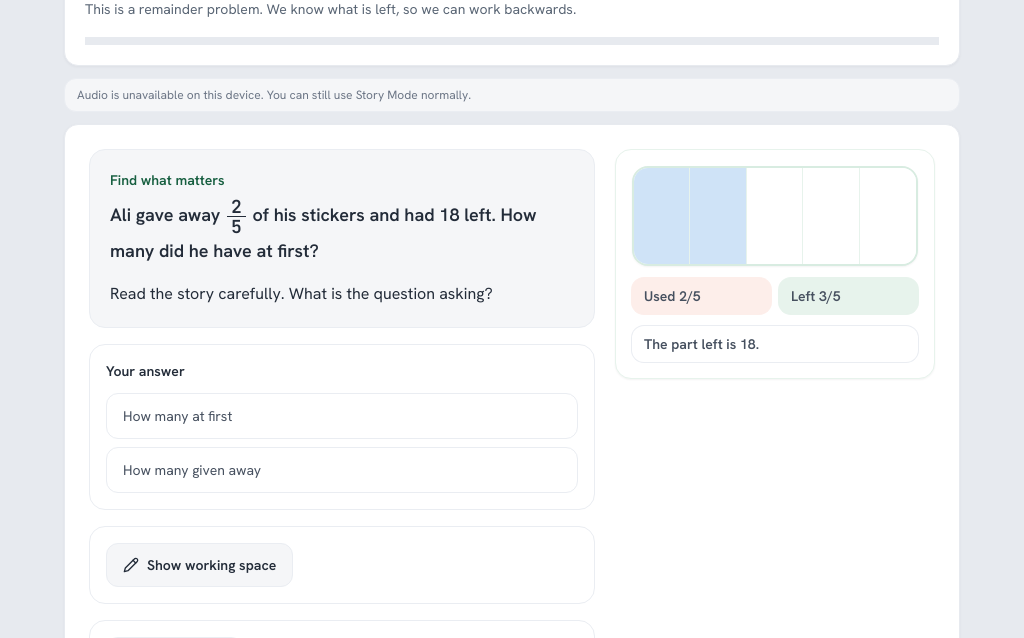
Scenario: FractionsStoryModeSession direct routes › shows story-specific retry guidance for a wrong answer
Step 1. Click the button "How many given away" → [192, 470], box [106, 447, 578, 493]
(page scrolled)
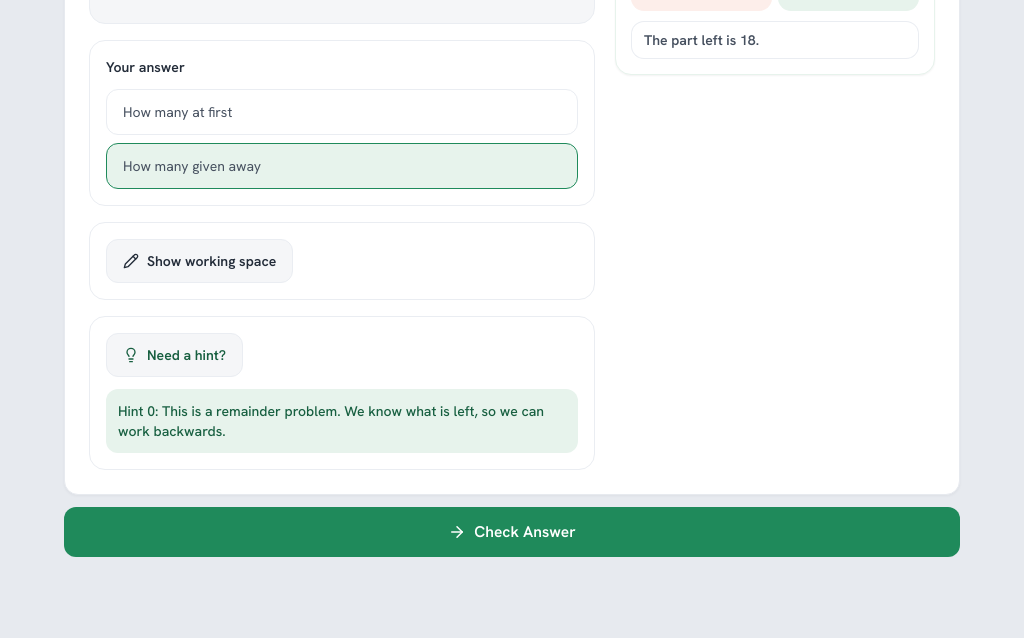
Step 2. Click the button "Check Answer" → [512, 532], box [64, 507, 960, 557]
(page scrolled)
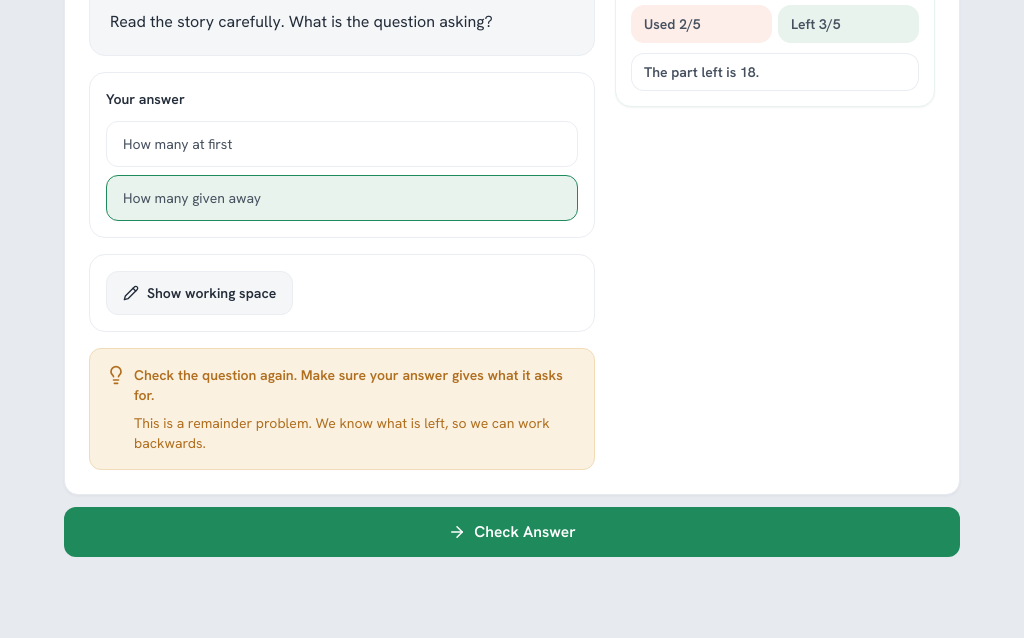
Check: the text "Check the question again" is shown, box [134, 366, 563, 404]
